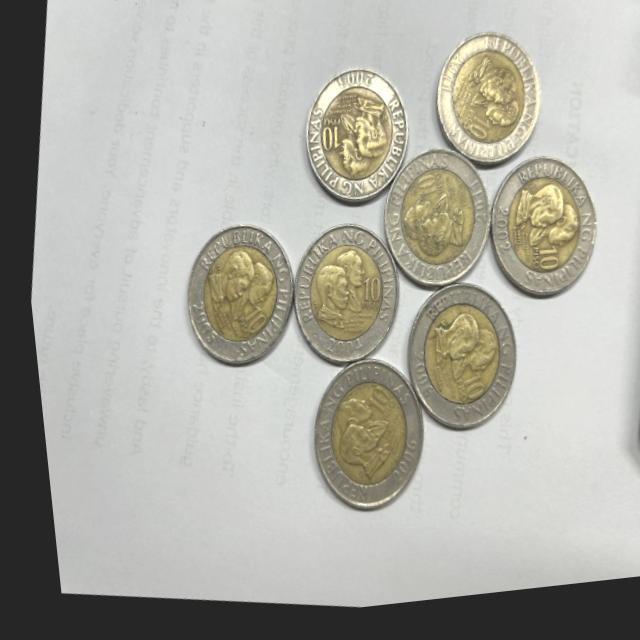10_Old_Front: (447, 376, 479, 413), (353, 389, 384, 427), (232, 308, 261, 342), (406, 177, 433, 212), (313, 128, 341, 161), (351, 280, 377, 311), (460, 122, 486, 153), (527, 255, 554, 284)
